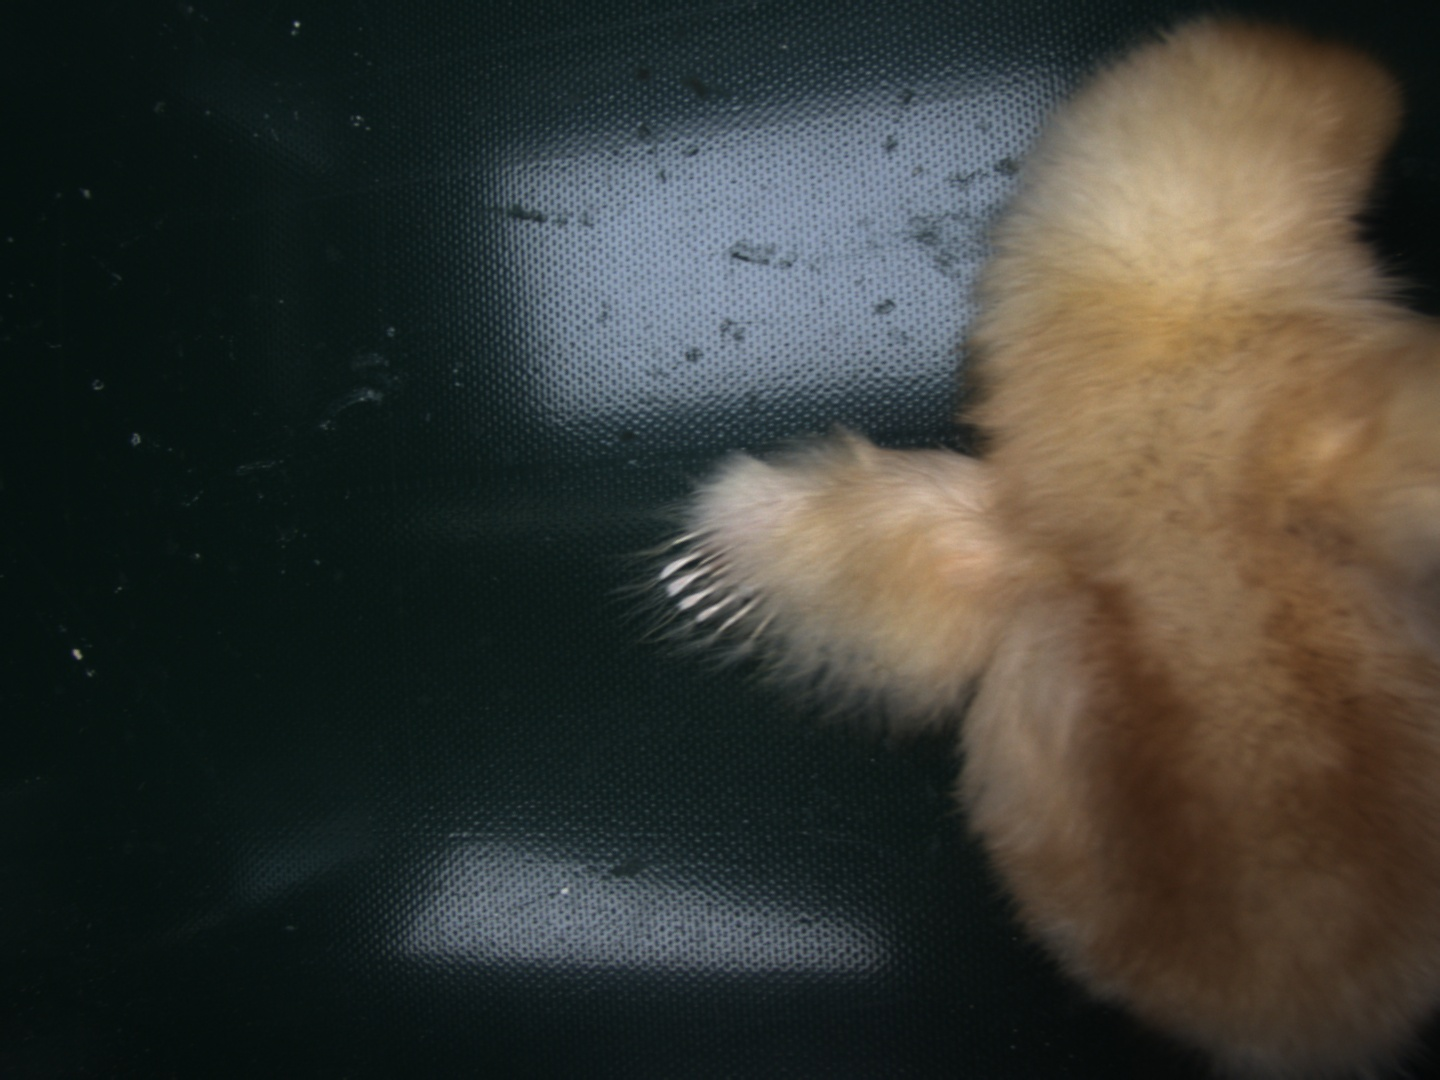female: (652, 522, 782, 652)
